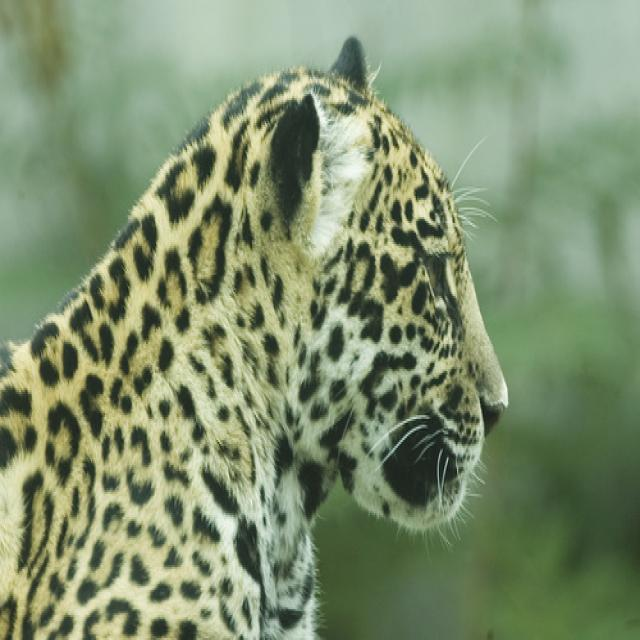Leopard: (0, 23, 508, 636)
